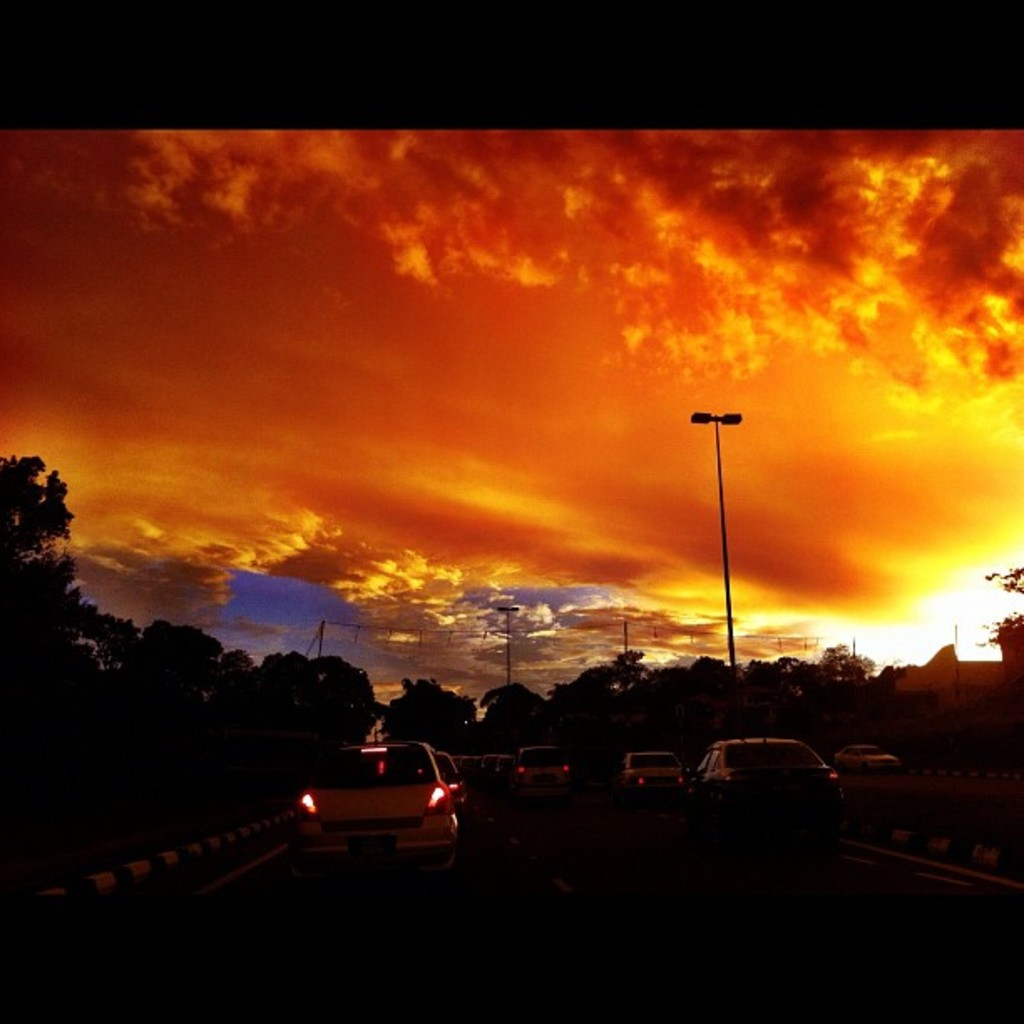Car: (297, 736, 898, 871)
